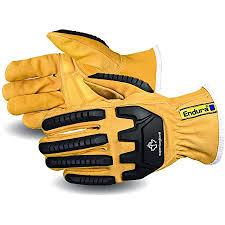gloves: (36, 77, 224, 188), (1, 27, 162, 131)
